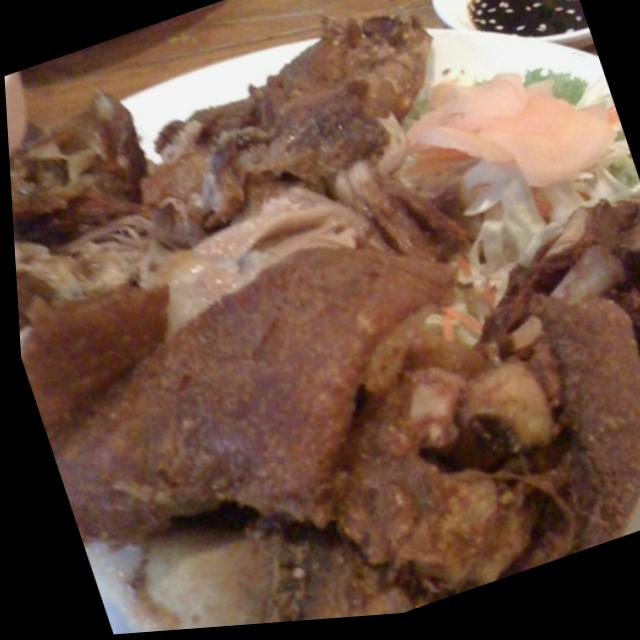猪肉菜式: (2, 16, 640, 640)
